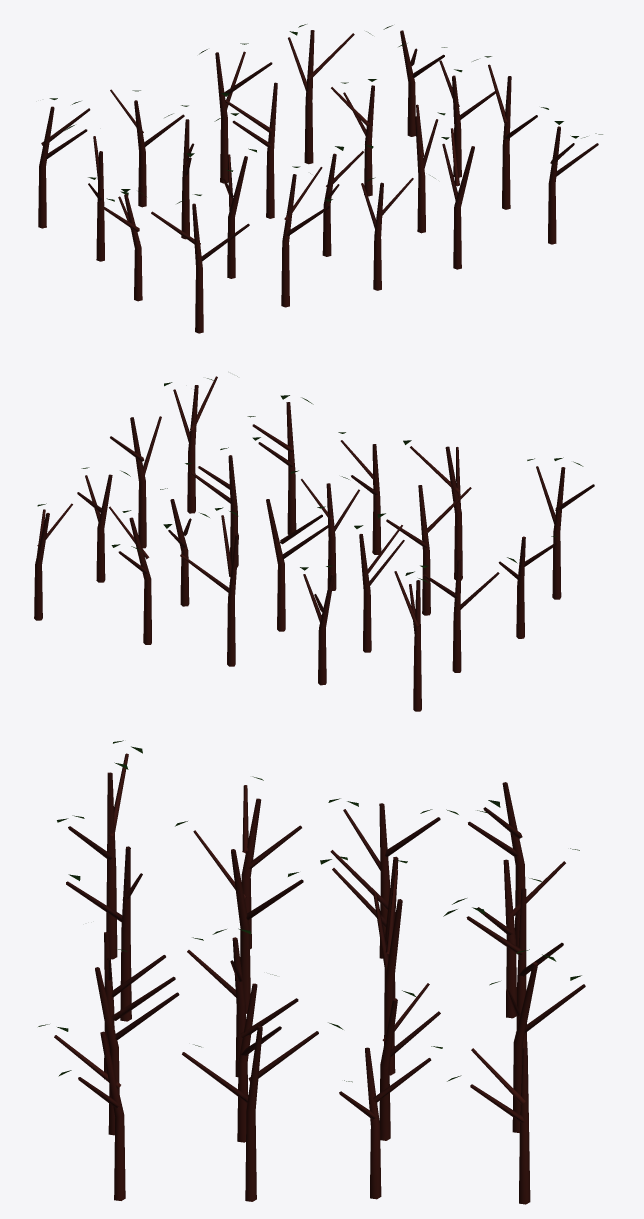
File: fm_cassava_2.glb
The picture shows the model from 3 angles, top to bottom: view 1: azimuth 30°, elevation 25°; view 2: azimuth 150°, elevation 25°; view 3: azimuth 270°, elevation 25°; orthographic projection. The views are drawn at different scales.
Visible parts, largest first — view 1: fm_cassava_2; view 2: fm_cassava_2; view 3: fm_cassava_2.
Boxes of the visible parts, box(x1,y1,x2,y2) form: fm_cassava_2: box(38, 24, 602, 333); fm_cassava_2: box(34, 376, 594, 711); fm_cassava_2: box(38, 740, 585, 1204).
Bounding box in the file's own units: 4.33 × 1.16 × 3.4.
